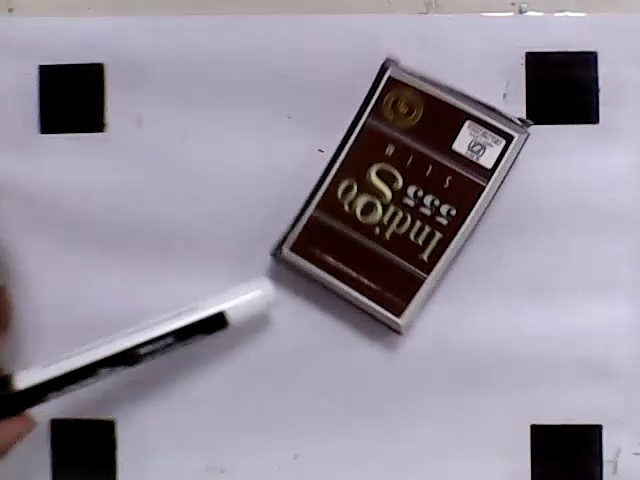BEX: (285, 70, 516, 321)
